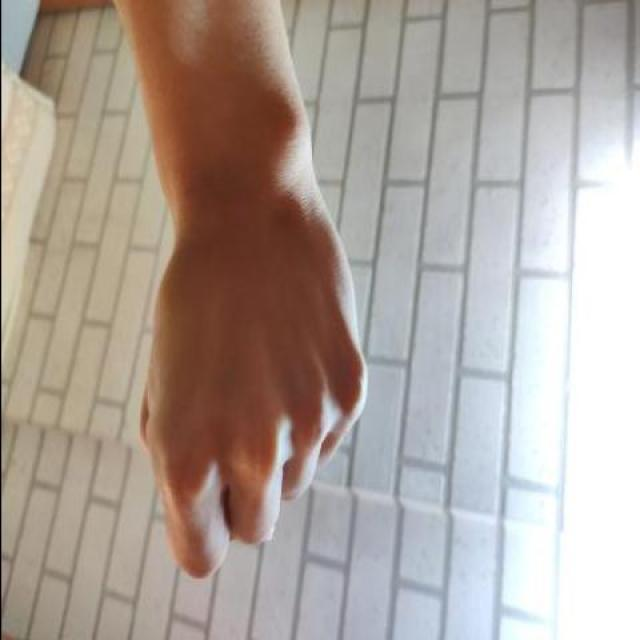Closed Hand: (100, 178, 368, 582)
